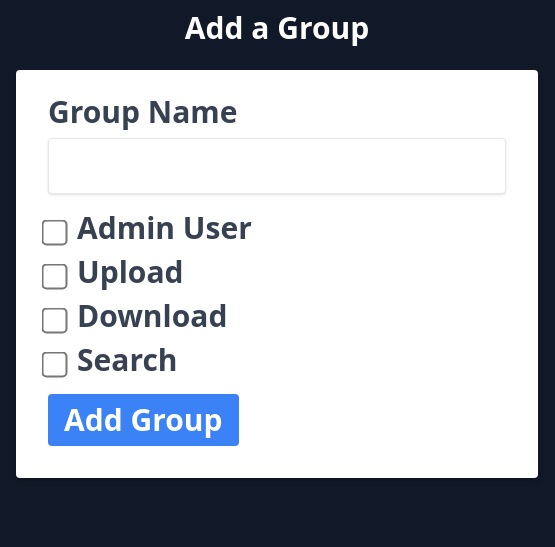
AddGroup Component Suite › shows success message on successful submission
Type "Test Group" into the field labelled "Group Name". click: (277, 166)
box: 48,138 -> 506,194
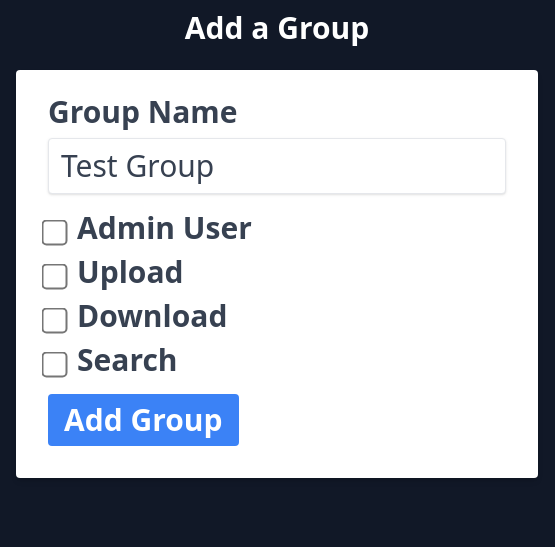
Click the button "Add Group". click: click(143, 420)
box: 48,394 -> 238,446
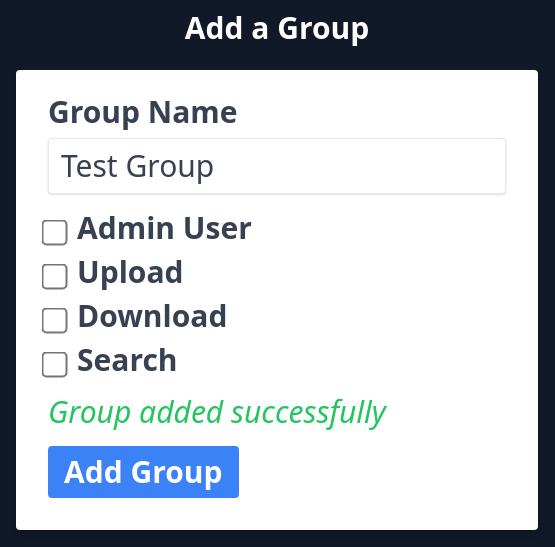
Now the text "Group added successfully" is shown, box 48,390 -> 386,432
